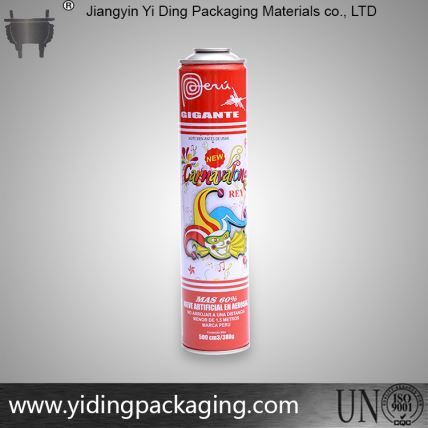Aerosol_cans: (177, 44, 252, 358)
